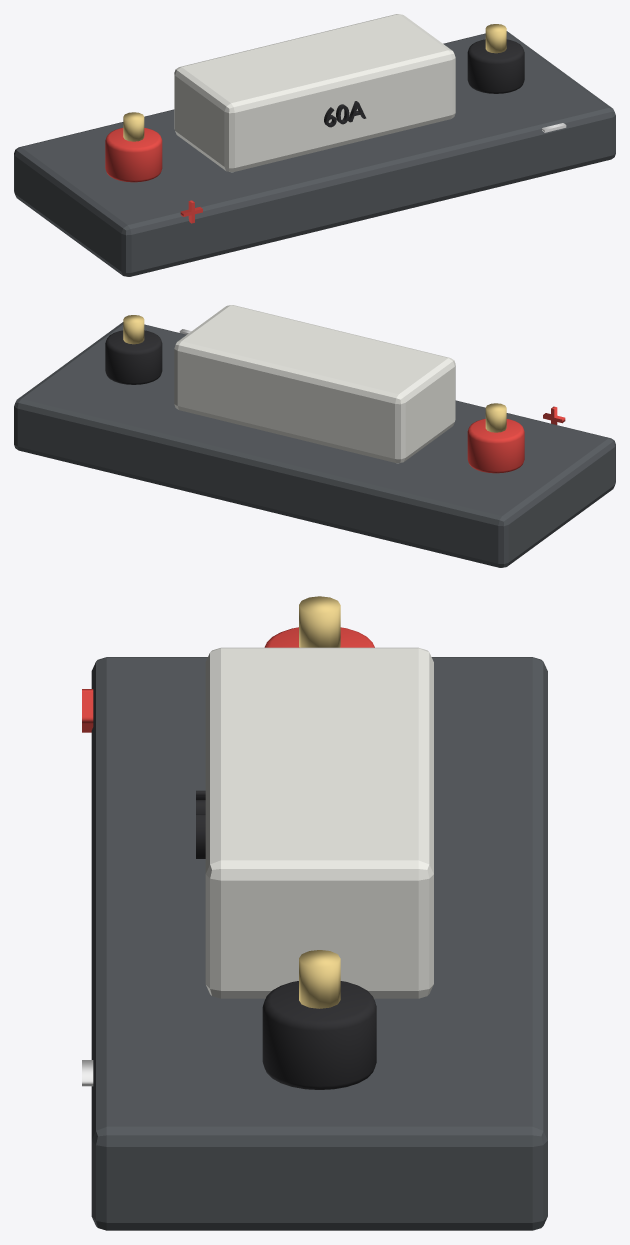
Rendered from protected-output.glb.
3 renders of one model, top to bottom at view 1: azimuth 30°, elevation 25°; view 2: azimuth 150°, elevation 25°; view 3: azimuth 270°, elevation 25°, orthographic. The views are drawn at different scales.
Parts seen in each view (by area): view 1: base, fuse_holder, lug_cap, lug_cap.001, lug_stud, lug_stud.001, amps; view 2: base, fuse_holder, lug_cap, lug_cap.001, lug_stud, lug_stud.001; view 3: base, fuse_holder, lug_cap.001, lug_stud.001, lug_stud, lug_cap.
Part boxes in pixels (<box>): base: <box>14,31,615,276</box>; fuse_holder: <box>174,14,455,172</box>; lug_cap: <box>105,128,162,182</box>; lug_cap.001: <box>467,39,524,93</box>; lug_stud: <box>123,112,144,141</box>; lug_stud.001: <box>485,24,506,53</box>; amps: <box>324,101,366,127</box>; base: <box>14,322,615,567</box>; fuse_holder: <box>174,305,455,463</box>; lug_cap: <box>467,419,524,473</box>; lug_cap.001: <box>105,330,162,384</box>; lug_stud: <box>485,403,506,432</box>; lug_stud.001: <box>123,315,144,344</box>; base: <box>91,657,547,1230</box>; fuse_holder: <box>205,647,433,998</box>; lug_cap.001: <box>262,981,376,1089</box>; lug_stud.001: <box>299,950,340,1008</box>; lug_stud: <box>299,596,340,647</box>; lug_cap: <box>264,627,374,647</box>.
Bounding box in the file's own units: 0.3 × 0.07 × 0.1225.
